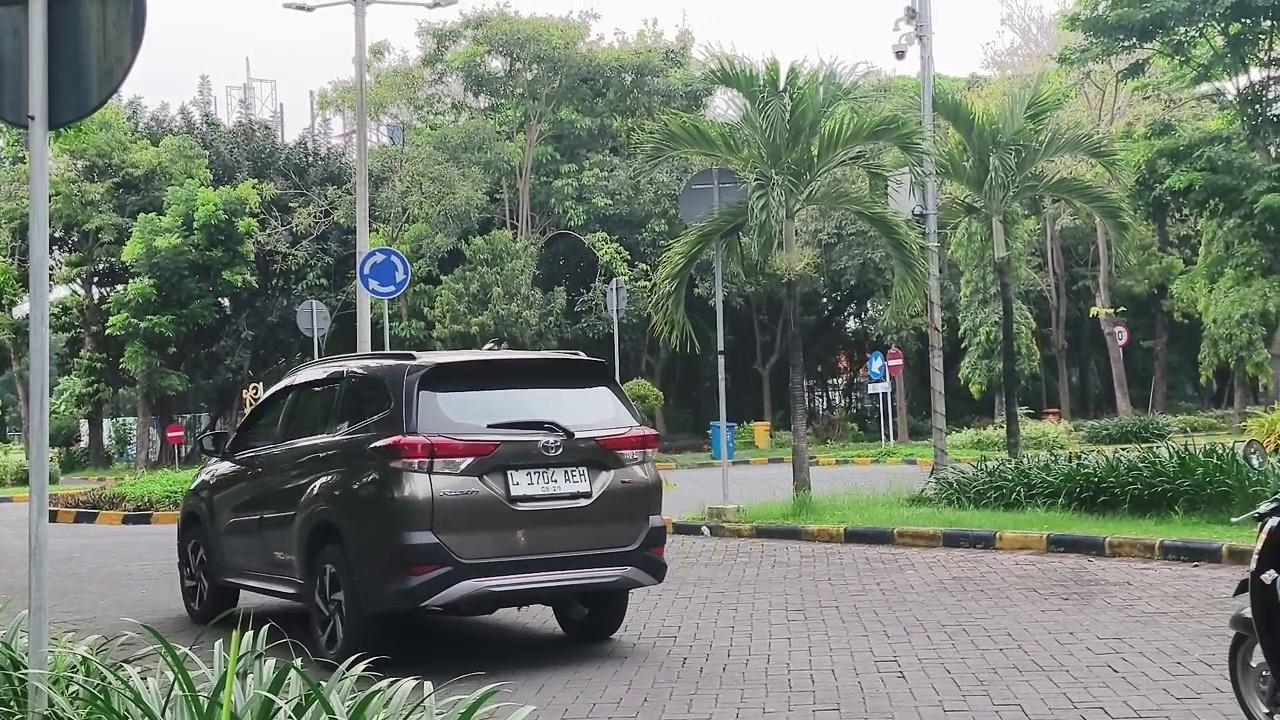Motor: (1229, 494, 1279, 719)
